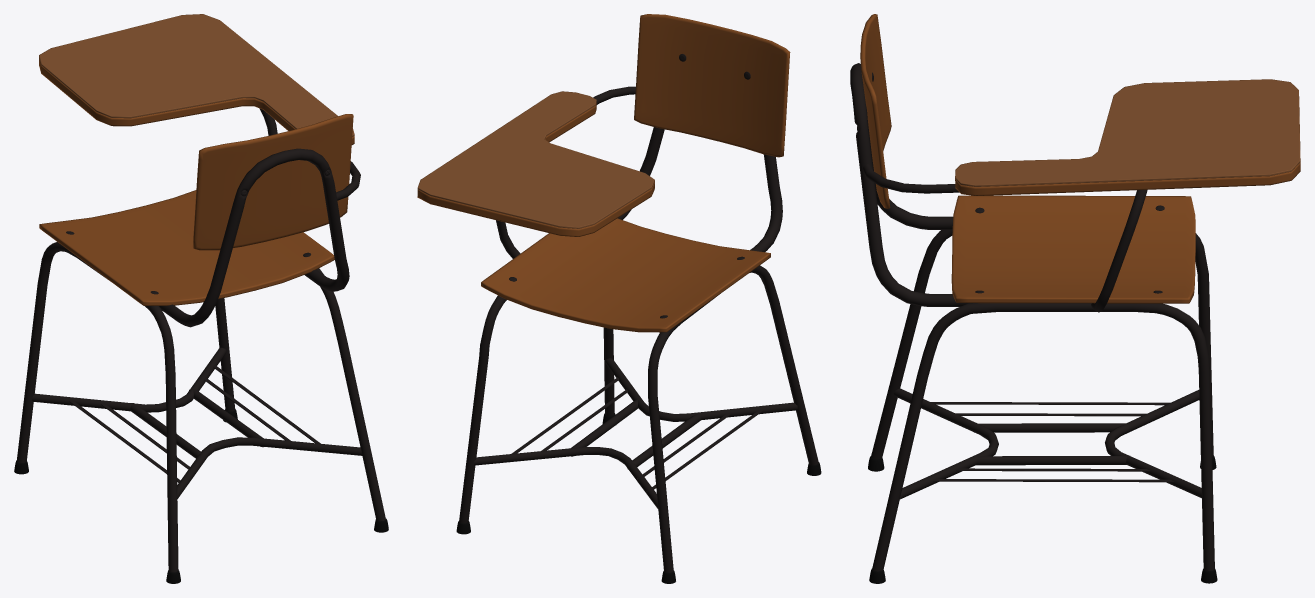
The model's file is chair.obj.
3 renders of one model, left to right at view 1: azimuth 30°, elevation 25°; view 2: azimuth 150°, elevation 25°; view 3: azimuth 270°, elevation 25°, orthographic. The views are drawn at different scales.
Parts seen in each view (by area): view 1: Box297.002, Box295.002, Line137.002; view 2: Box297.002, Box295.002, Line137.002; view 3: Box297.002, Box295.002, Line137.002.
Boxes of the visible parts, x1,y1,x2,y2 form: Box297.002: (39,14,354,305); Box295.002: (16,108,385,572); Line137.002: (14,409,388,583); Box297.002: (417,14,790,332); Box295.002: (459,54,818,572); Line137.002: (456,413,821,583); Box297.002: (860,14,1300,303); Box295.002: (850,63,1214,571); Line137.002: (868,455,1217,583).
Size of the model in its own units: 0.5201 by 0.9126 by 0.7891.
